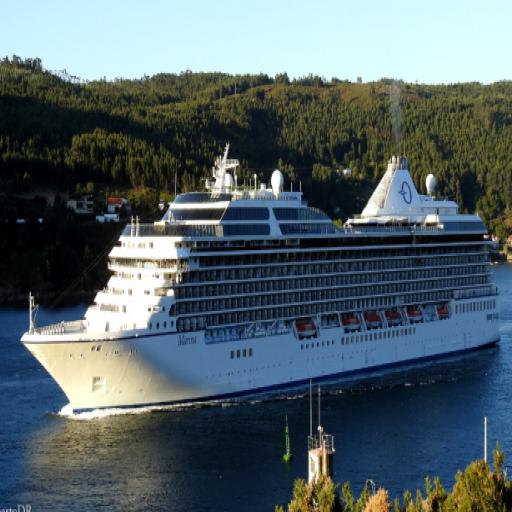cruises: (20, 140, 504, 420)
